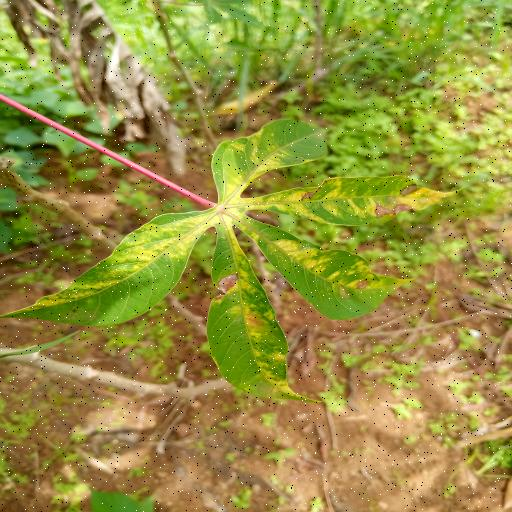Cassava_Mosaic: (0, 114, 463, 406)
